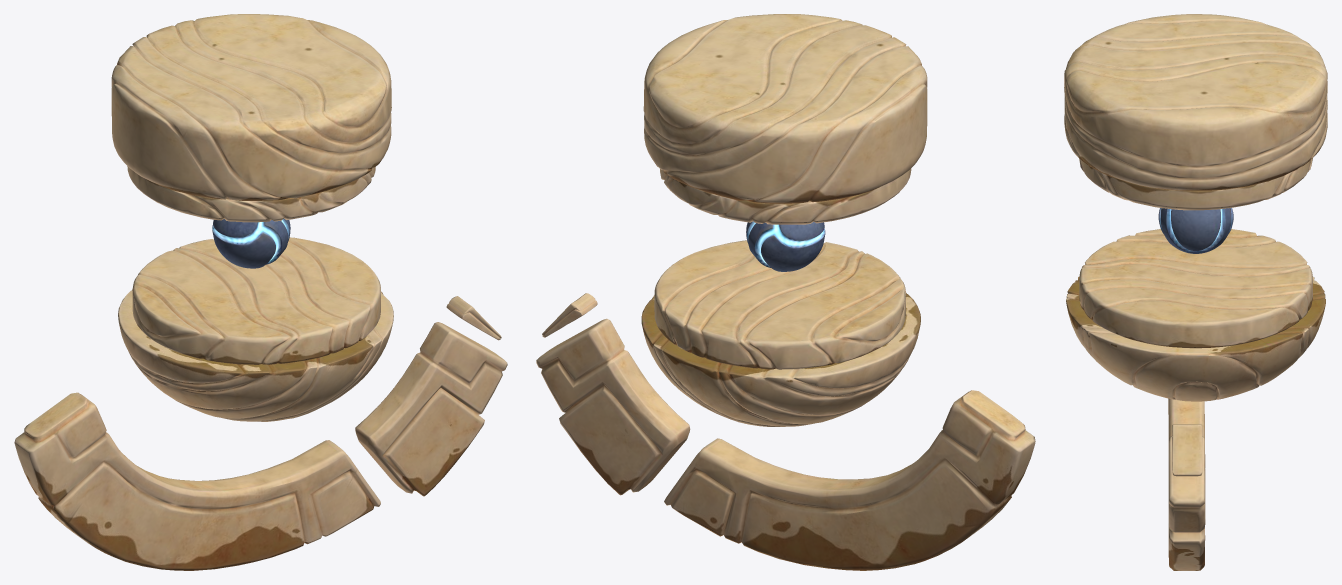
Rendered from sky_shrine_d.glb.
3 renders of one model, left to right at view 1: azimuth 30°, elevation 25°; view 2: azimuth 150°, elevation 25°; view 3: azimuth 270°, elevation 25°, orthographic. The views are drawn at different scales.
Parts seen in each view (by area): view 1: shrine_d; view 2: shrine_d; view 3: shrine_d.
Part boxes in pixels (x1=…): shrine_d: x1=14, y1=14, x2=507, y2=570; shrine_d: x1=536, y1=14, x2=1035, y2=570; shrine_d: x1=1064, y1=14, x2=1327, y2=570.
Size of the model in its own units: 3.73 by 3.59 by 1.89.
1 material, 1 textured.
